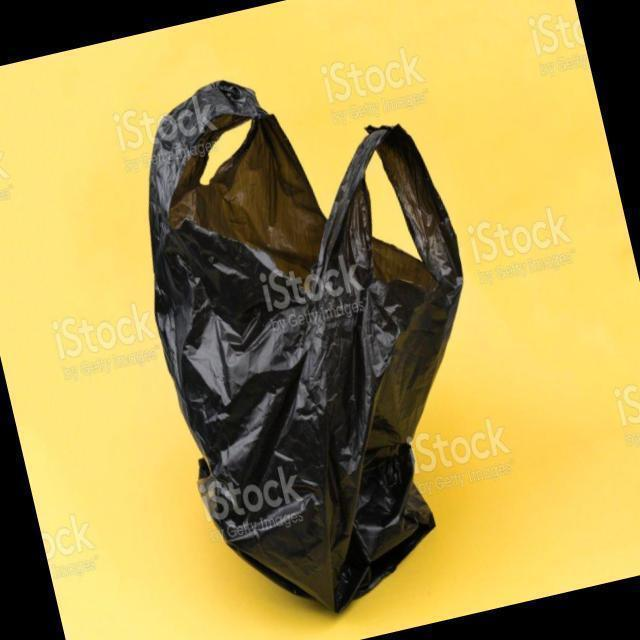Plastic_Bag: (100, 36, 526, 640)
